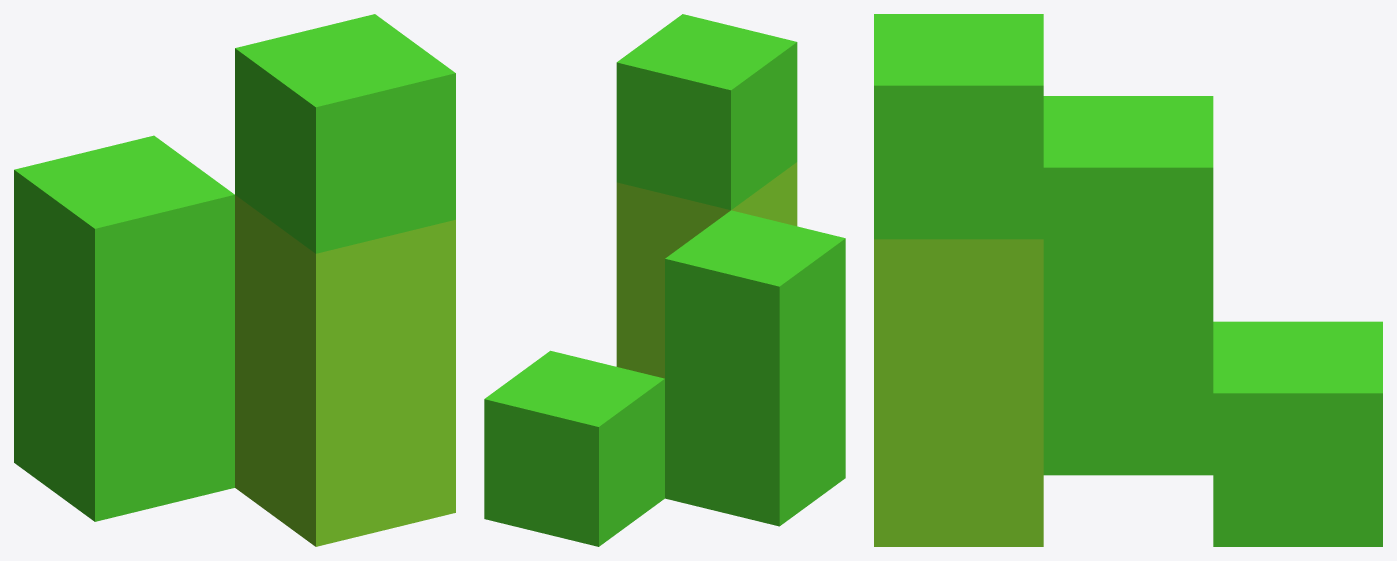
Rendered from tile-20.obj.
3 renders of one model, left to right at view 1: azimuth 30°, elevation 25°; view 2: azimuth 150°, elevation 25°; view 3: azimuth 270°, elevation 25°, orthographic. The views are drawn at different scales.
Bounding box in the file's own units: 0.2 × 0.3 × 0.3.
